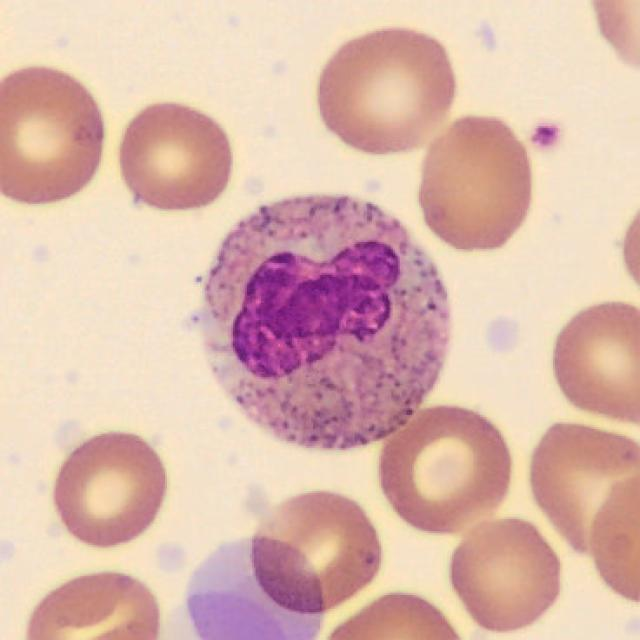Neutrofilo segmentado: (193, 195, 450, 451)
